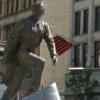Statue: (7, 2, 66, 93)
